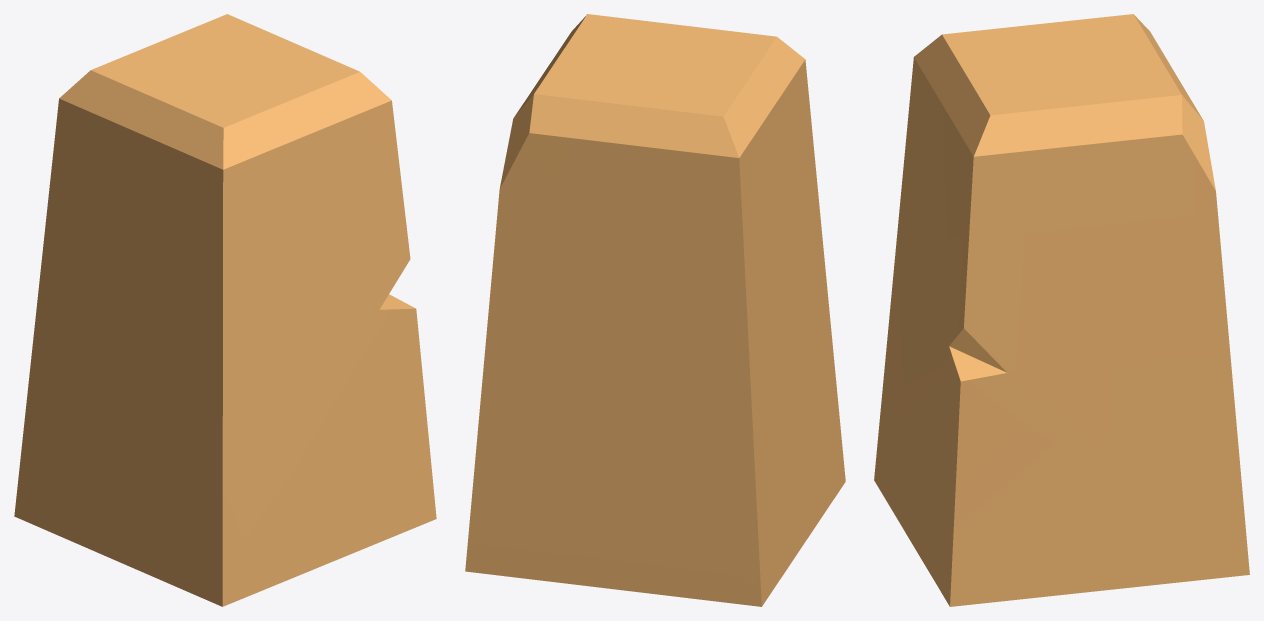
The model's file is Rock2.fbx.
3 views of the same model, side by side, from view 1: azimuth 30°, elevation 25°; view 2: azimuth 150°, elevation 25°; view 3: azimuth 270°, elevation 25° (orthographic). The views are drawn at different scales.
Visible parts, largest first — view 1: Rock2; view 2: Rock2; view 3: Rock2.
Boxes of the visible parts, x1,y1,x2,y2 form: Rock2: [14, 14, 436, 606]; Rock2: [465, 14, 845, 606]; Rock2: [874, 14, 1249, 606].
Size of the model in its own units: 50.66 by 68.84 by 50.66.
